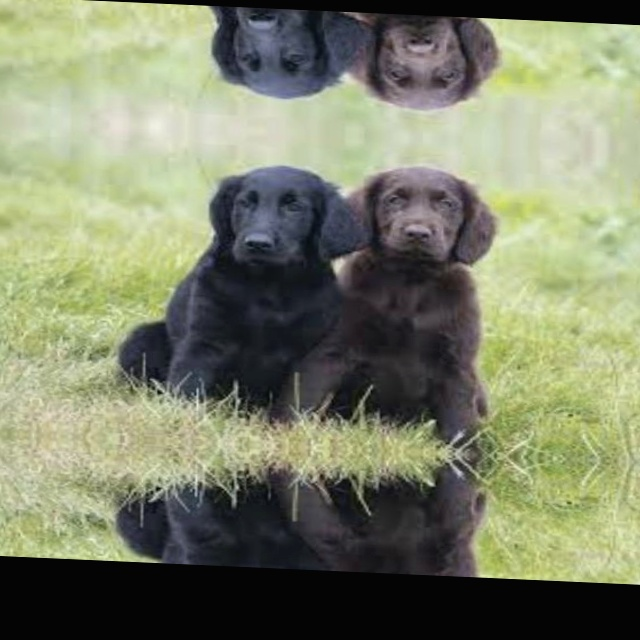dog: (113, 147, 340, 413), (338, 158, 505, 432), (118, 2, 342, 111), (111, 473, 335, 571), (343, 12, 507, 118), (336, 472, 500, 578)
